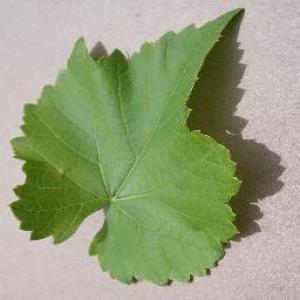Folha: (8, 7, 246, 286)
